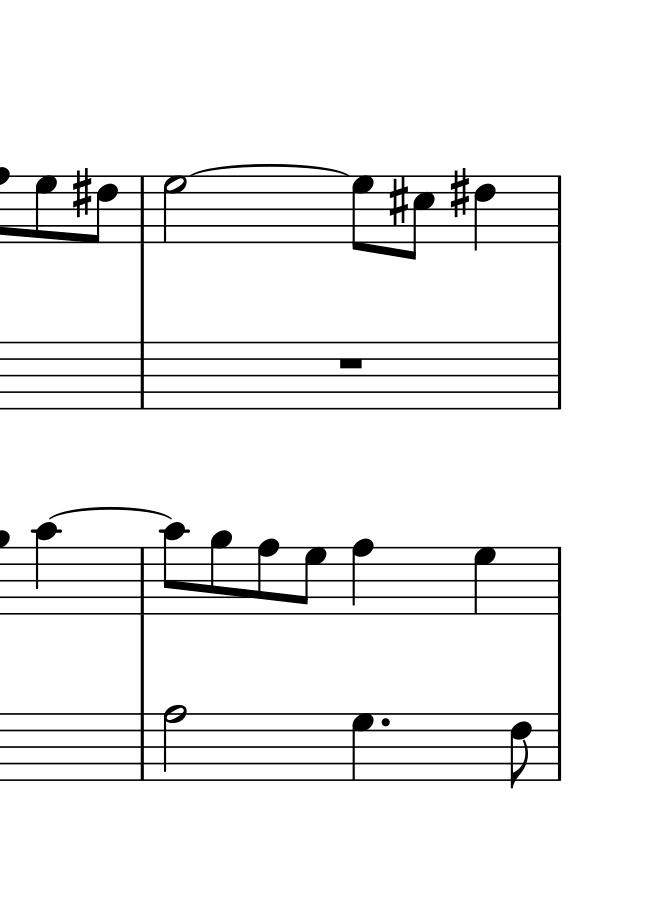16_7: (349, 174, 377, 256), (33, 175, 60, 246)
2_7: (161, 174, 189, 246)
2_8: (161, 702, 188, 784)
4_10: (34, 520, 60, 615)
4_6: (473, 175, 496, 247)
4_7: (350, 711, 376, 783), (472, 546, 497, 617)
4_8: (351, 539, 374, 617)
8_10: (162, 521, 188, 619)
8_5: (405, 173, 436, 262)
8_6: (89, 173, 120, 244), (509, 711, 533, 790)
8_7: (297, 546, 327, 616)
8_8: (256, 536, 280, 617)
8_9: (210, 529, 234, 615)
Rests1: (336, 353, 369, 374)
Sharp: (448, 167, 473, 215), (72, 166, 94, 217), (388, 176, 409, 226)
Single_barline: (548, 174, 567, 246), (548, 712, 567, 780), (549, 544, 567, 615), (134, 175, 151, 246), (134, 546, 151, 615), (133, 713, 150, 781), (550, 340, 566, 412), (135, 347, 150, 402)
Slur: (188, 164, 350, 177), (48, 505, 174, 520)
dot: (377, 711, 393, 732), (377, 715, 390, 729)
